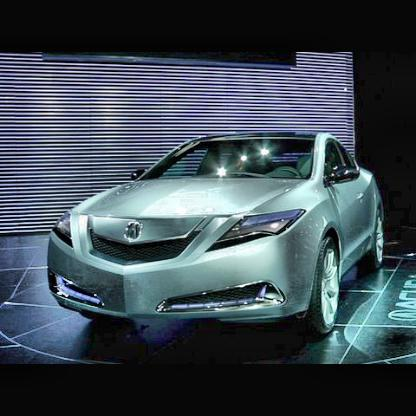Acura ZDX Hatchback 2012: (49, 133, 387, 336)
